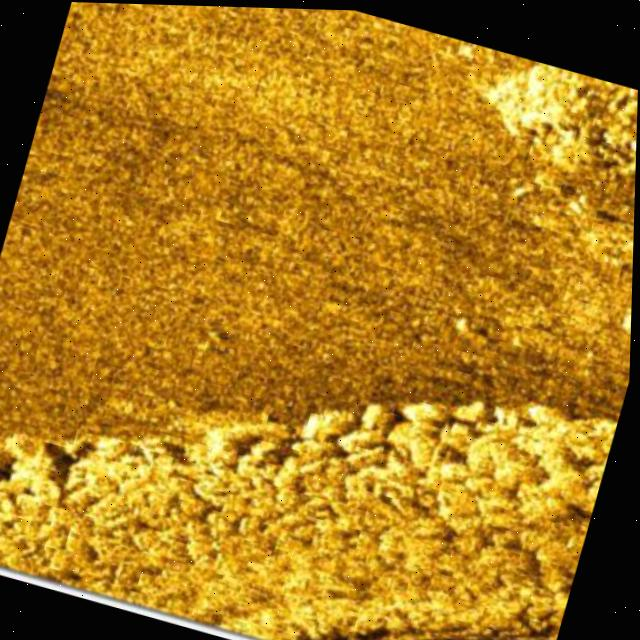bedrock group: (0, 247, 621, 640)
